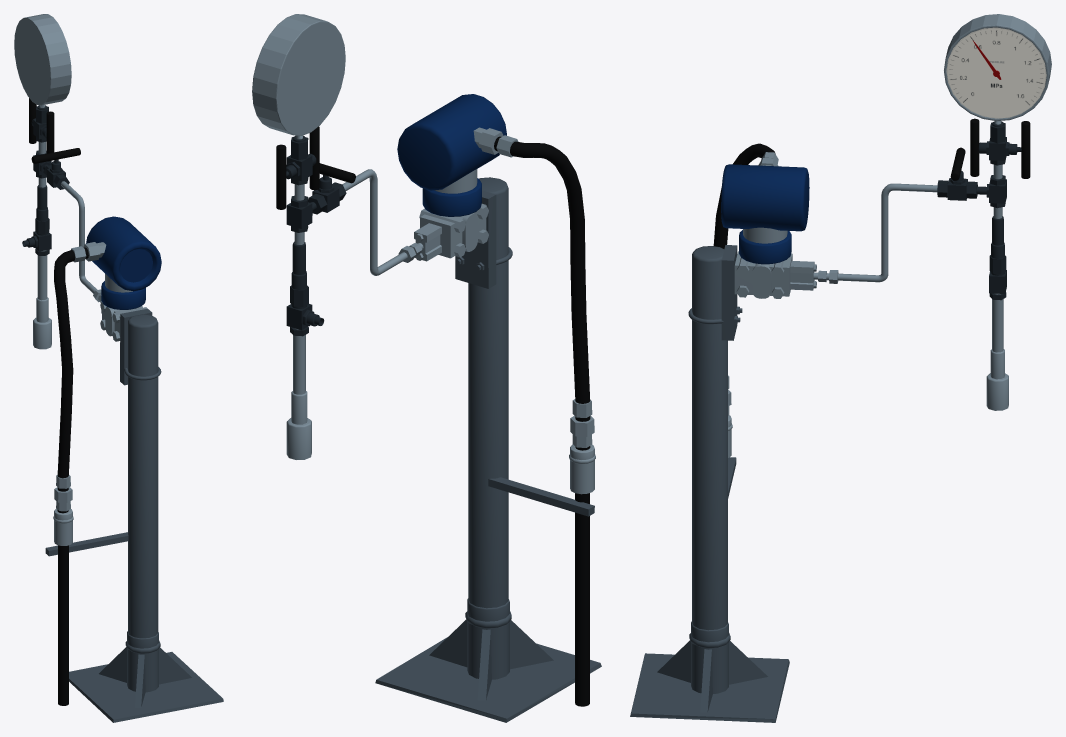
The model's file is 压力变送器_完整装配.fbx.
The picture shows the model from 3 angles, left to right: view 1: azimuth 30°, elevation 25°; view 2: azimuth 150°, elevation 25°; view 3: azimuth 270°, elevation 25°; orthographic projection. The views are drawn at different scales.
Visible parts, largest first — view 1: 立柱_支撑管, 底座_安装底板, 压力表_表壳, 变送器_电子外壳, 线缆_弯曲护套, 线缆_下引段, 立柱_底部套筒, 变送器_下壳盖, 支架_仪表安装板, 支架_线缆固定片, 引压管_弯管, 线缆_防水接头 (+7 smaller); view 2: 立柱_支撑管, 压力表_表壳, 底座_安装底板, 变送器_电子外壳, 线缆_弯曲护套, 线缆_下引段, 立柱_底部套筒, 支架_仪表安装板, 变送器_下壳盖, 支架_线缆固定片, 引压管_弯管, 线缆_防水接头 (+10 smaller); view 3: 立柱_支撑管, 压力表_表盘, 底座_安装底板, 变送器_电子外壳, 压力表_表壳, 立柱_底部套筒, 引压管_弯管, 支架_仪表安装板, 变送器_下壳盖, 变送器_连接块, 线缆_弯曲护套, 底座_加强筋_02 (+3 smaller).
Part boxes in pixels (x1=…): 立柱_支撑管: x1=128, y1=314, x2=158, y2=638; 底座_安装底板: x1=69, y1=652, x2=223, y2=722; 压力表_表壳: x1=14, y1=14, x2=71, y2=105; 变送器_电子外壳: x1=86, y1=216, x2=161, y2=291; 线缆_弯曲护套: x1=54, y1=247, x2=88, y2=513; 线缆_下引段: x1=58, y1=545, x2=68, y2=705; 立柱_底部套筒: x1=125, y1=631, x2=160, y2=692; 变送器_下壳盖: x1=101, y1=281, x2=145, y2=309; 支架_仪表安装板: x1=120, y1=308, x2=152, y2=385; 支架_线缆固定片: x1=45, y1=532, x2=128, y2=556; 引压管_弯管: x1=61, y1=181, x2=99, y2=296; 线缆_防水接头: x1=53, y1=508, x2=73, y2=545; 立柱_支撑管: x1=468, y1=177, x2=508, y2=608; 压力表_表壳: x1=252, y1=14, x2=345, y2=135; 底座_安装底板: x1=375, y1=637, x2=601, y2=722; 变送器_电子外壳: x1=397, y1=94, x2=506, y2=190; 线缆_弯曲护套: x1=494, y1=136, x2=590, y2=450; 线缆_下引段: x1=575, y1=493, x2=589, y2=706; 立柱_底部套筒: x1=465, y1=598, x2=511, y2=679; 支架_仪表安装板: x1=455, y1=190, x2=496, y2=288; 变送器_下壳盖: x1=422, y1=178, x2=481, y2=216; 支架_线缆固定片: x1=488, y1=477, x2=594, y2=516; 引压管_弯管: x1=342, y1=169, x2=423, y2=275; 线缆_防水接头: x1=569, y1=444, x2=595, y2=494; 立柱_支撑管: x1=692, y1=246, x2=727, y2=630; 压力表_表盘: x1=946, y1=27, x2=1046, y2=118; 底座_安装底板: x1=630, y1=653, x2=789, y2=722; 变送器_电子外壳: x1=721, y1=164, x2=809, y2=231; 压力表_表壳: x1=944, y1=14, x2=1051, y2=120; 立柱_底部套筒: x1=689, y1=621, x2=730, y2=693; 引压管_弯管: x1=813, y1=183, x2=937, y2=282; 支架_仪表安装板: x1=721, y1=245, x2=737, y2=340; 变送器_下壳盖: x1=739, y1=230, x2=791, y2=264; 变送器_连接块: x1=734, y1=251, x2=792, y2=296; 线缆_弯曲护套: x1=713, y1=143, x2=775, y2=248; 底座_加强筋_02: x1=729, y1=641, x2=767, y2=684.
Bounding box in the file's own units: 0.1314 × 0.4999 × 0.2801.
Materials: 8 (1 with a texture image).
